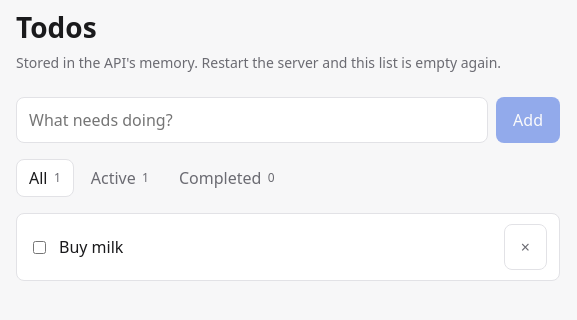
TodoApp › removes a todo when its delete button is clicked
Click the button named "Delete Buy milk" at [525, 247], box [504,224,547,270]
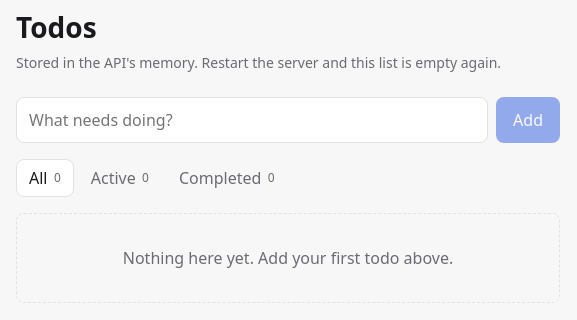
Expected: the text "Buy milk" is gone
